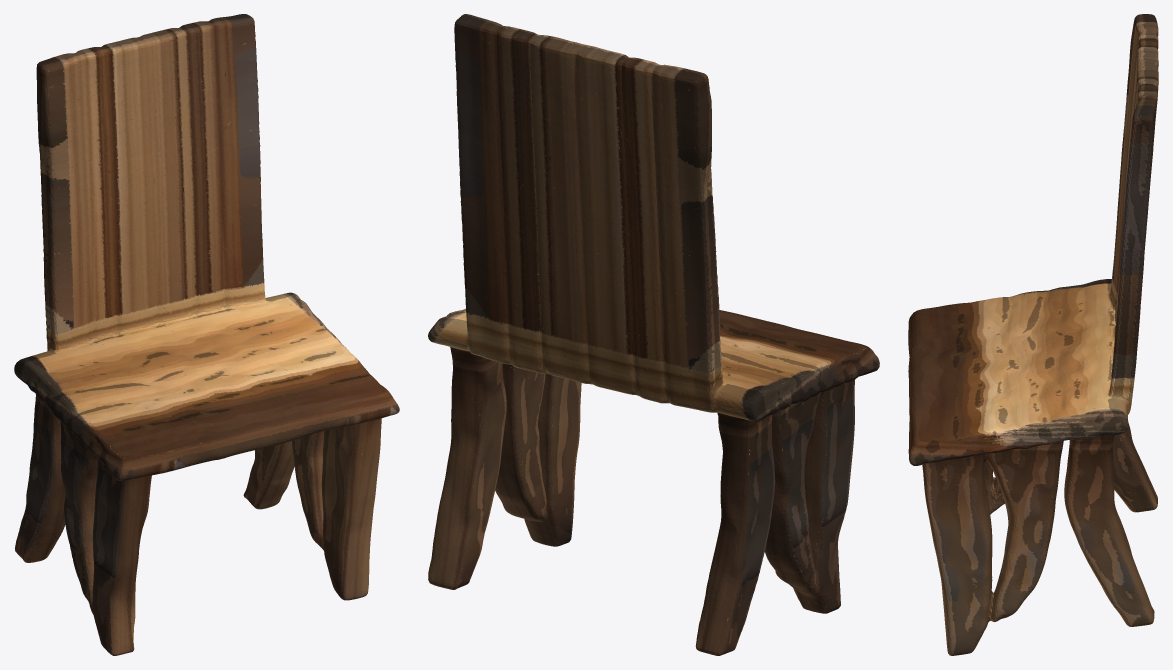
File: chair.glb
3 views of the same model, side by side, from view 1: azimuth 30°, elevation 25°; view 2: azimuth 150°, elevation 25°; view 3: azimuth 270°, elevation 25° (orthographic). The views are drawn at different scales.
Visible parts, largest first — view 1: geometry_0; view 2: geometry_0; view 3: geometry_0.
Boxes of the visible parts, x1,y1,x2,y2 form: geometry_0: [14, 14, 399, 655]; geometry_0: [428, 14, 879, 655]; geometry_0: [908, 14, 1158, 655].
Size of the model in its own units: 0.5712 by 1 by 0.4285.
1 material, 1 textured.
